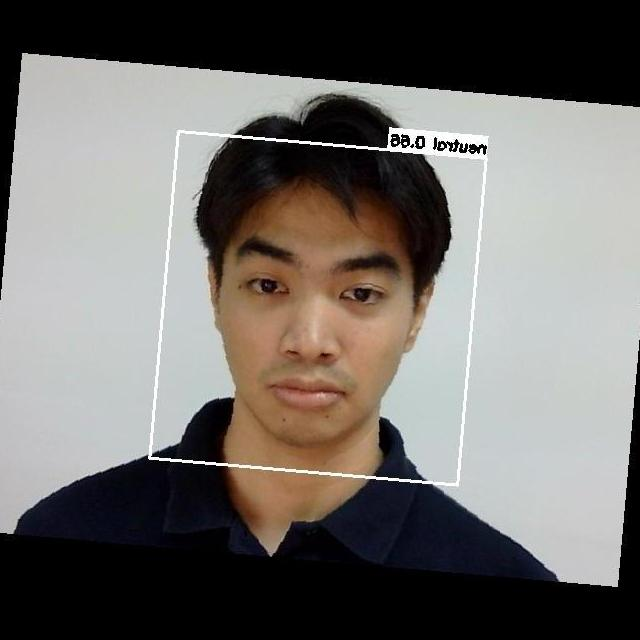Fear: (198, 204, 420, 446)
